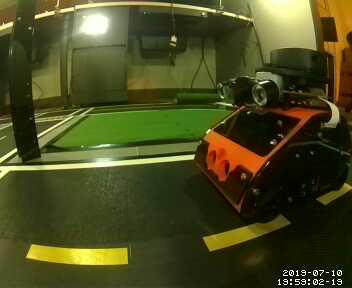pheeno: (190, 41, 352, 222)
